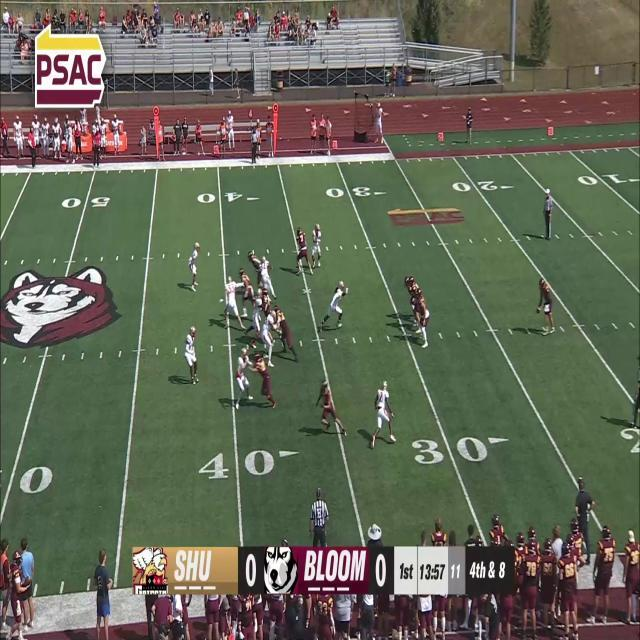football: (536, 305, 542, 315)
